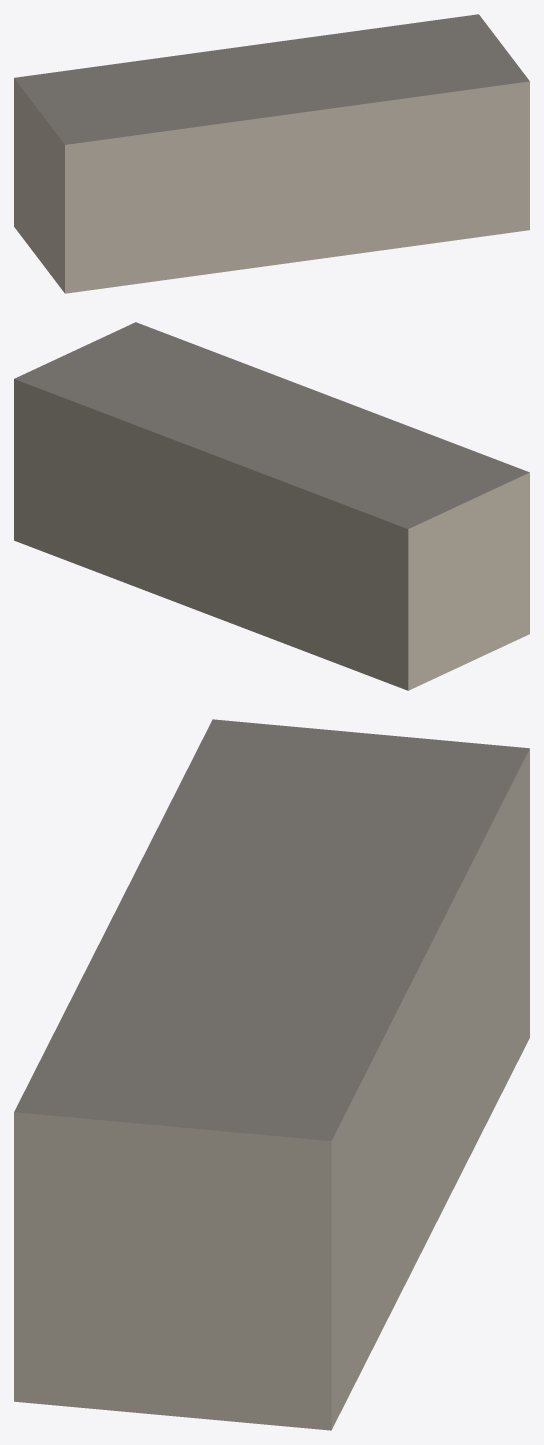
3 views of the same model, one above another, from view 1: azimuth 30°, elevation 25°; view 2: azimuth 150°, elevation 25°; view 3: azimuth 270°, elevation 25° (orthographic). The views are drawn at different scales.
Parts seen in each view (by area): view 1: HP-w859488867; view 2: HP-w859488867; view 3: HP-w859488867.
Part boxes in pixels (box(x1,y1,x2,y2)): HP-w859488867: box(14, 14, 529, 293); HP-w859488867: box(14, 322, 529, 690); HP-w859488867: box(14, 719, 529, 1430).
Bounding box in the file's own units: 56.26 × 18 × 29.08.
